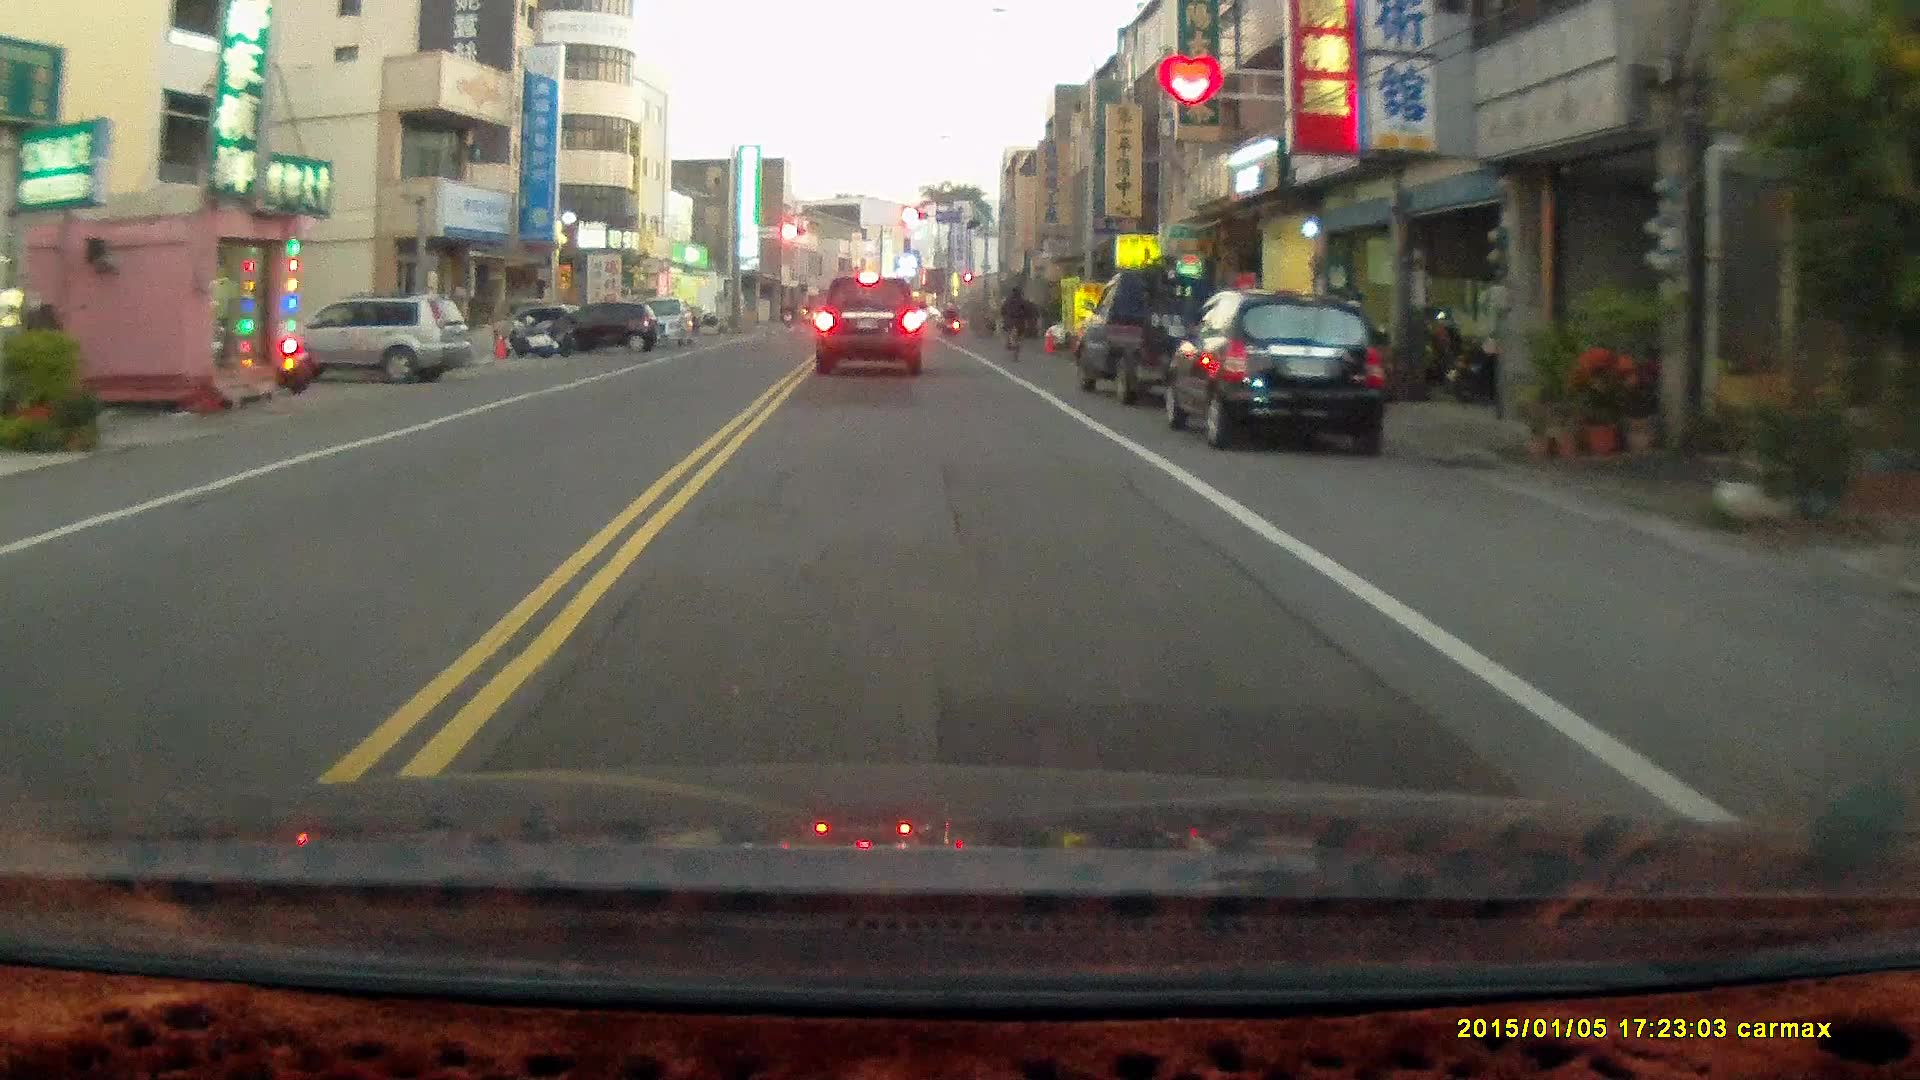rider: (998, 283, 1032, 365)
vehicle: (1170, 290, 1393, 451), (1076, 265, 1265, 403), (269, 293, 474, 385), (815, 276, 926, 377), (534, 298, 659, 354)
